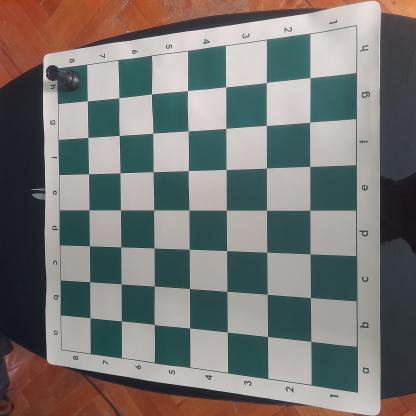black-rook: (44, 65, 82, 93)
